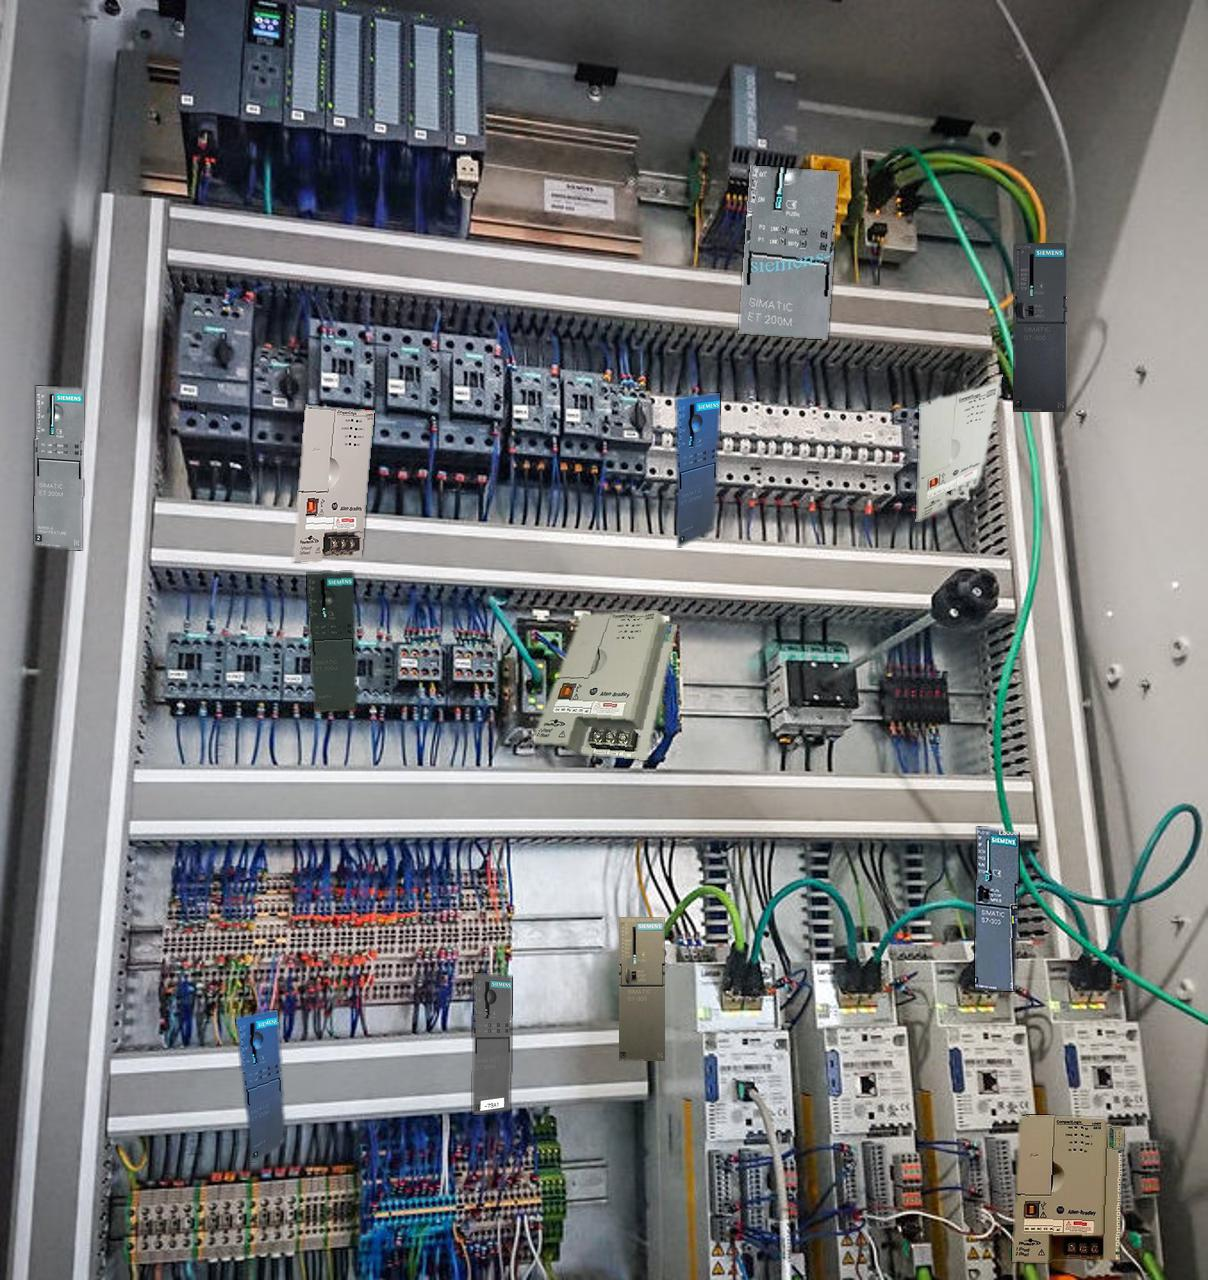AllenBradley: (534, 610, 676, 759), (1010, 1114, 1122, 1262), (916, 374, 1003, 521), (293, 405, 374, 561)
Siemens: (1013, 243, 1066, 411), (975, 827, 1018, 990), (619, 917, 664, 1060)
